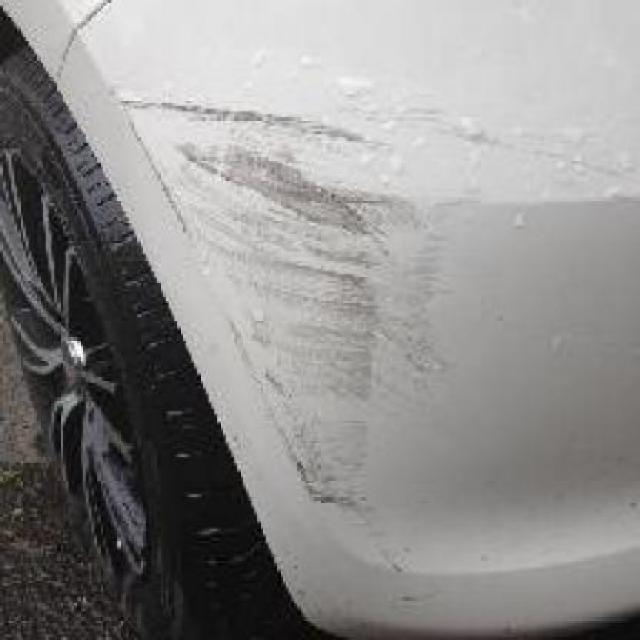dent-or-scratch: (139, 80, 490, 511)
